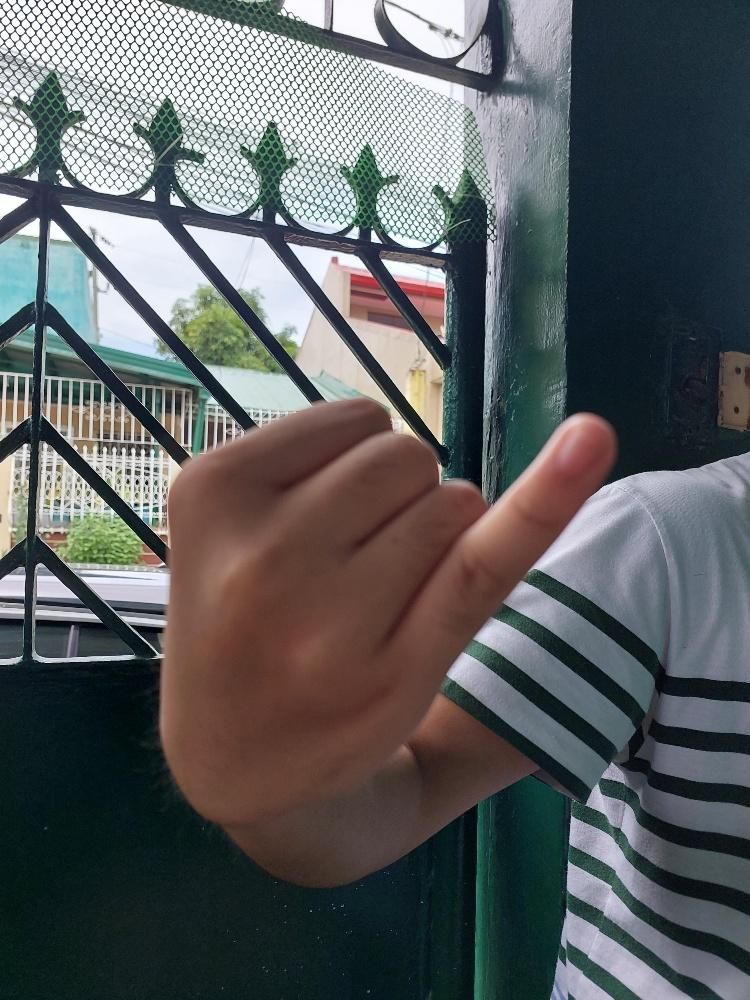j: (154, 384, 619, 832)
